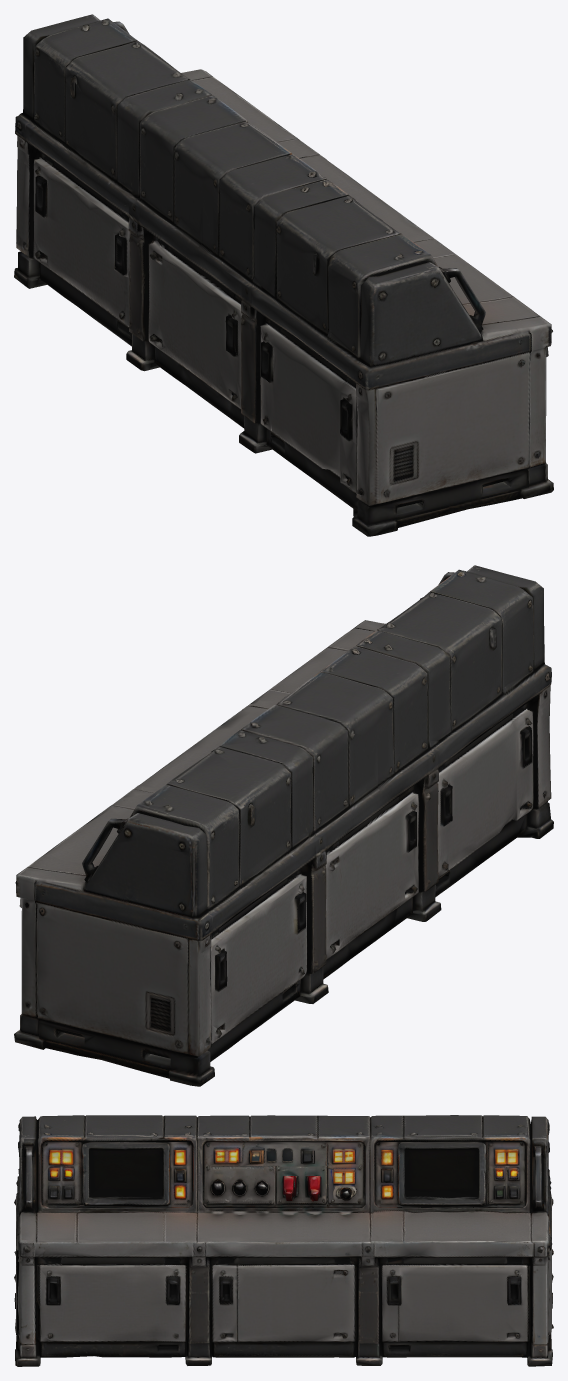
Rendered from PROP-TERMINAL-CONSOLE.glb.
3 views of the same model, one above another, from view 1: azimuth 30°, elevation 25°; view 2: azimuth 150°, elevation 25°; view 3: azimuth 270°, elevation 25° (orthographic). The views are drawn at different scales.
Visible parts, largest first — view 1: tripo_node_914701ef-9b63-4d3e-9064-b1cf113aa4fe; view 2: tripo_node_914701ef-9b63-4d3e-9064-b1cf113aa4fe; view 3: tripo_node_914701ef-9b63-4d3e-9064-b1cf113aa4fe.
Boxes of the visible parts, x1,y1,x2,y2 form: tripo_node_914701ef-9b63-4d3e-9064-b1cf113aa4fe: (14, 14, 553, 536); tripo_node_914701ef-9b63-4d3e-9064-b1cf113aa4fe: (14, 565, 553, 1086); tripo_node_914701ef-9b63-4d3e-9064-b1cf113aa4fe: (14, 1115, 553, 1366).
Size of the model in its own units: 0.3145 by 0.3933 by 1.
Materials: 1 (1 with a texture image).
